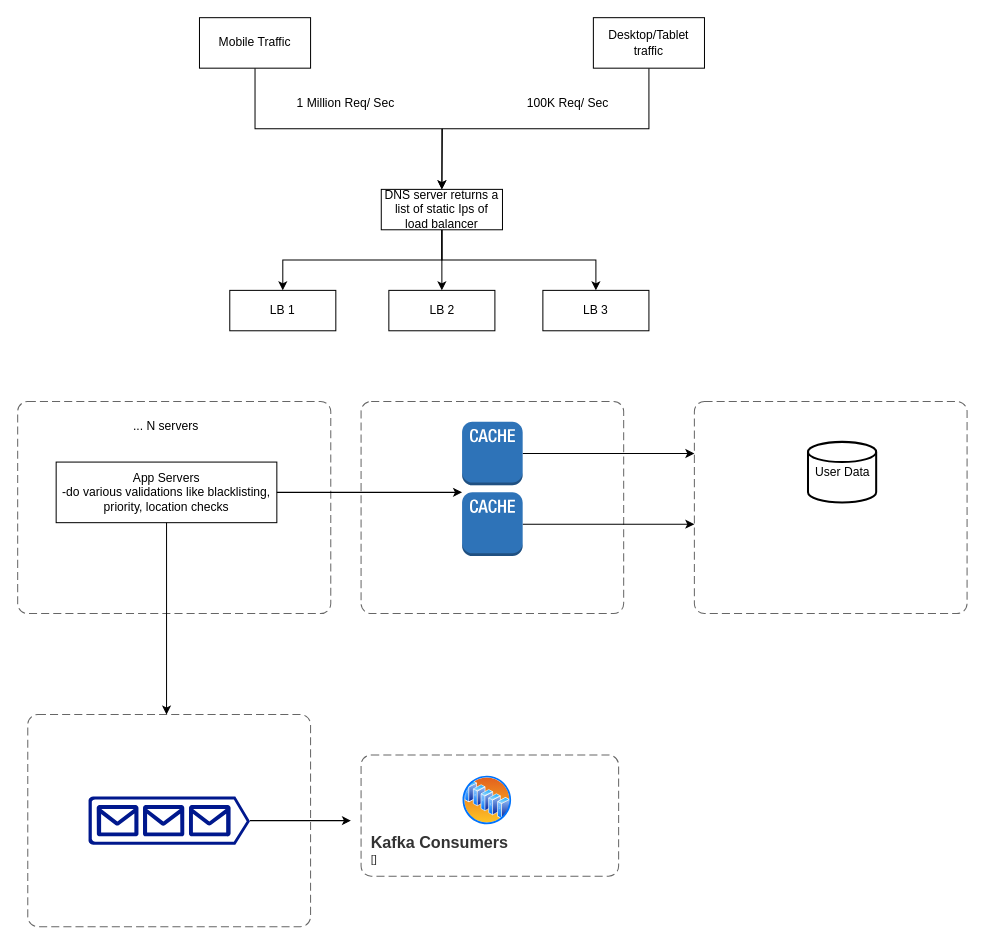
This 985x944 diagram has some shape labels left out. The box of each missing label's shape, as (x1, y1, x2, y2) in pixels:
App server cluster []: (17, 400, 331, 614)
Cache Cluster []: (360, 400, 624, 614)
Queue Cluster []: (27, 714, 311, 927)
User Database Cluster [ ]: (693, 400, 967, 614)
